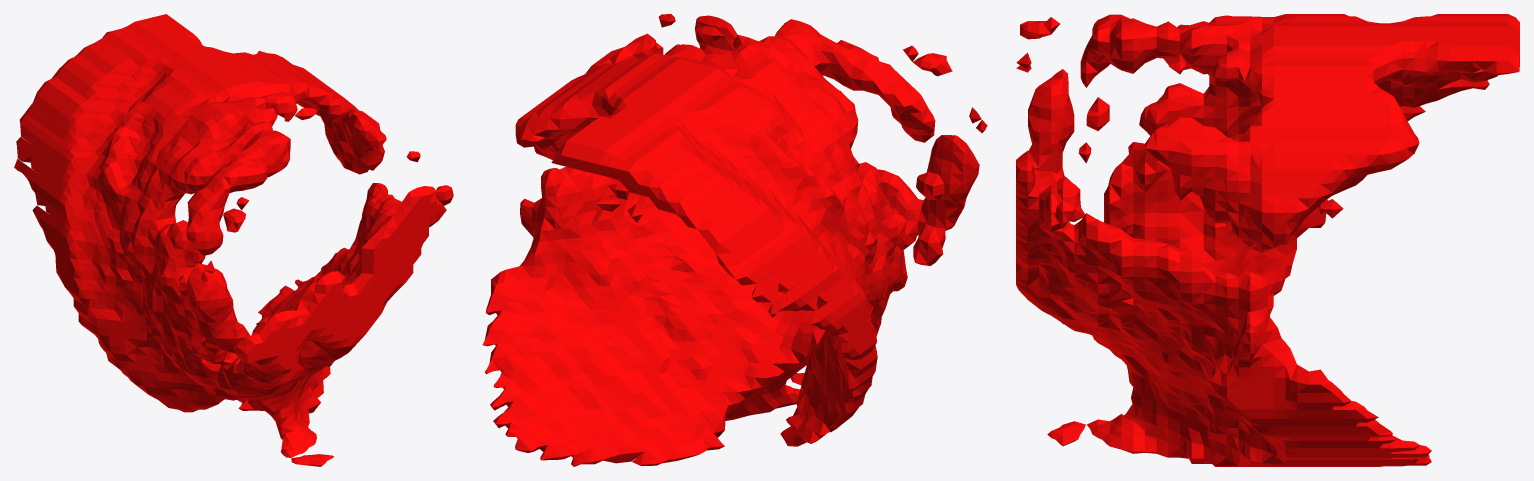
File: B939XXXX-1_valve_26.obj
The picture shows the model from 3 angles, left to right: view 1: azimuth 30°, elevation 25°; view 2: azimuth 150°, elevation 25°; view 3: azimuth 270°, elevation 25°; orthographic projection. The views are drawn at different scales.
Parts seen in each view (by area): view 1: 26_valve; view 2: 26_valve; view 3: 26_valve.
Part boxes in pixels (<box>): 26_valve: <box>14,14,453,466</box>; 26_valve: <box>482,14,987,466</box>; 26_valve: <box>1016,14,1519,466</box>.
Bounding box in the file's own units: 77.98 × 76.97 × 85.95.
